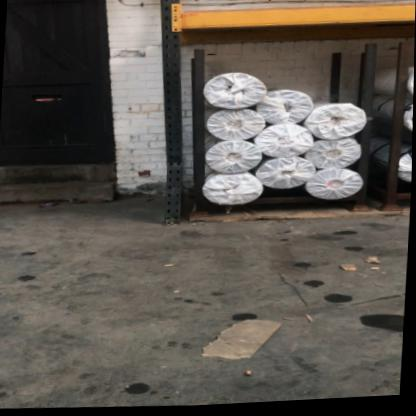vertical_damage: (156, 148, 194, 188)
